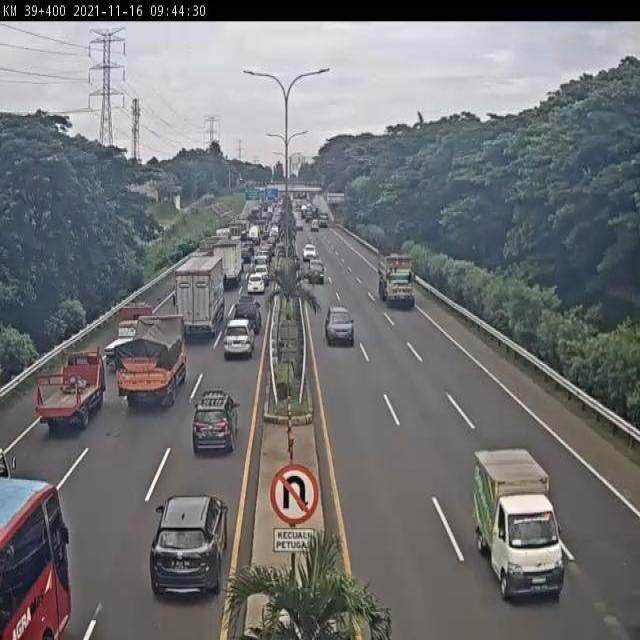ARABA: (148, 503, 228, 604), (190, 396, 236, 455), (220, 324, 252, 365), (325, 303, 355, 344), (232, 296, 260, 336), (246, 274, 265, 294)
KAMYONET: (472, 448, 566, 603), (115, 320, 189, 412), (31, 354, 101, 434), (103, 305, 153, 363), (214, 241, 243, 287)
TIR: (172, 254, 223, 338), (376, 248, 415, 311)
